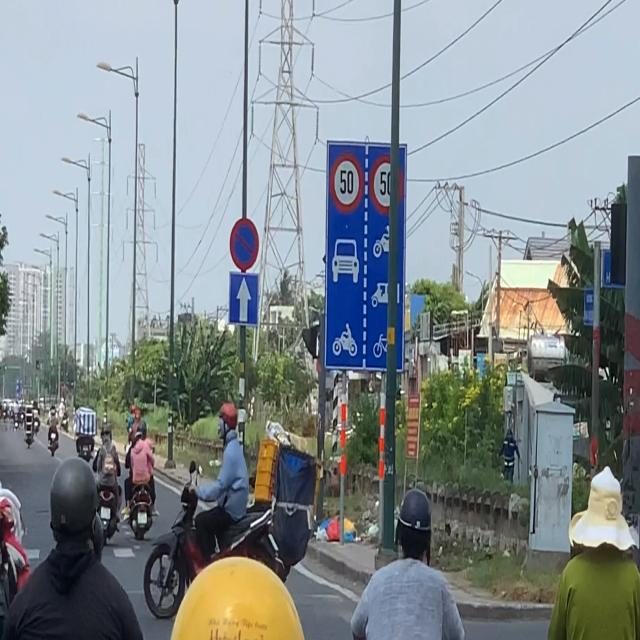Cam do: (230, 218, 259, 270)
Chi dan: (228, 272, 259, 326)
Toc do toi da: (329, 152, 364, 213), (369, 154, 404, 215)
